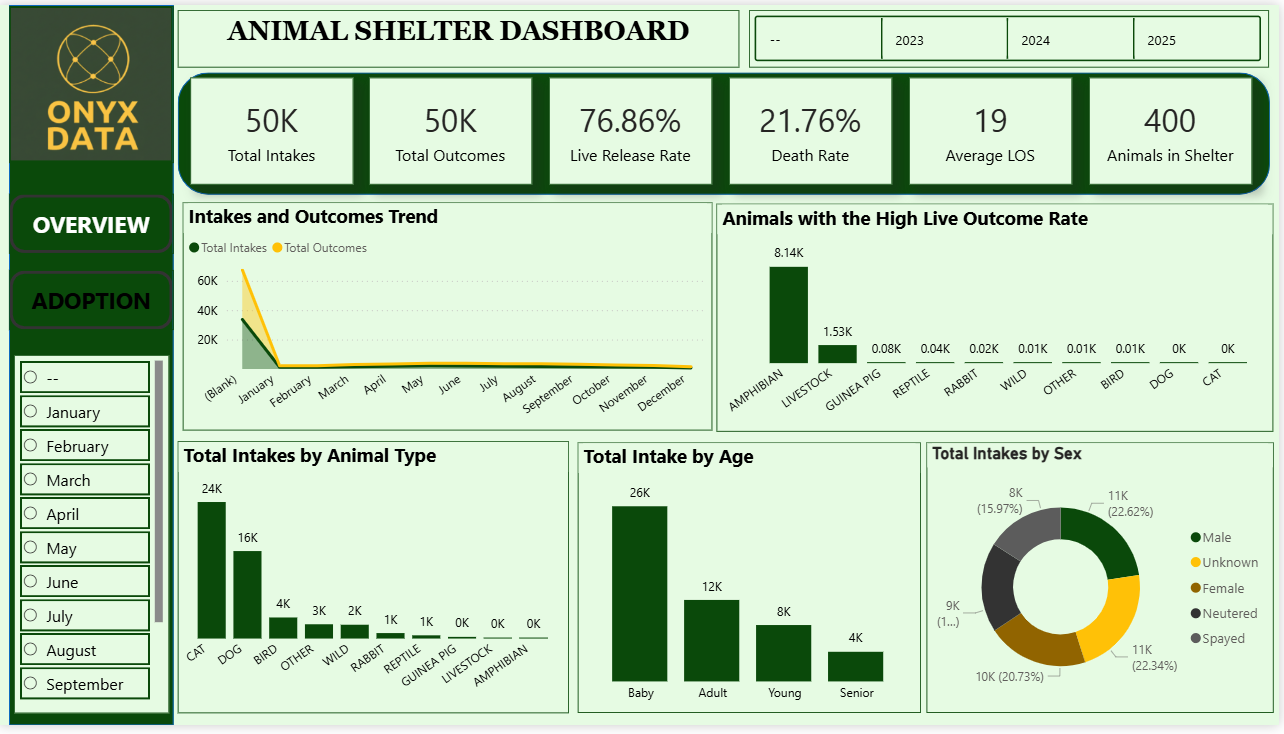

The dashboard page shown, as its layout file describes it:
{"tool":"powerbi","page":{"name":"Overview","canvas":[1280,720],"ordinal":0},"visuals":[{"type":"shape","box":[9.6,0,164.7,720.4],"z":0},{"type":"shape","box":[178.4,67.2,1092.3,122.1],"z":1000},{"type":"card","fields":{"Values":["_Measure.Total Intakes"]},"box":[190.7,72.4,163.3,107],"z":2000},{"type":"card","fields":{"Values":["_Measure.Total Outcomes"]},"box":[370.5,72.4,163.3,107],"z":3000},{"type":"card","fields":{"Values":["_Measure.Live Release Rate"]},"box":[550.3,72.4,163.3,107],"z":4000},{"type":"card","fields":{"Values":["_Measure.Death Rate (%)"]},"box":[730,72.4,163.3,107],"z":5000},{"type":"card","fields":{"Values":["_Measure.AGV LOS"]},"box":[909.8,72.4,163.3,107],"z":6000},{"type":"card","fields":{"Values":["_Measure.Animals Currently in Shelter"]},"box":[1089.5,72.4,163.3,107],"z":7000},{"type":"stackedAreaChart","title":"Intakes and Outcomes Trend","fields":{"Category":["Calendar Table.Month Name"],"Y":["_Measure.Total Intakes","_Measure.Total Outcomes"]},"box":[183.9,197.6,529.7,227.8],"z":8000},{"type":"clusteredColumnChart","fields":{"Category":["Animals.Animal Type"],"Y":["_Measure.Total Intakes"]},"box":[178.4,436.4,391.1,271.7],"z":9000},{"type":"donutChart","fields":{"Category":["Animals.Sex"],"Y":["_Measure.Total Intakes"]},"box":[927.6,437.7,347.2,270.3],"z":10000},{"type":"clusteredColumnChart","title":"Animals with the High Live Outcome Rate","fields":{"Category":["Animals.Animal Type"],"Y":["_Measure.Live Outcomes"]},"box":[717.7,199,557.1,227.8],"z":11000},{"type":"columnChart","title":"Total Intake by Age ","fields":{"Category":["Animals.Age Group"],"Y":["_Measure.Total Intakes"]},"box":[579.1,437.7,343.1,270.3],"z":12000},{"type":"textbox","box":[178.4,5.5,561.2,57.6],"z":13000},{"type":"image","box":[9.6,1.4,164.7,156.4],"z":14000},{"type":"actionButton","box":[9.6,189.4,164.7,60.4],"z":15000},{"type":"actionButton","box":[9.6,264.8,164.7,60.4],"z":16000},{"type":"advancedSlicerVisual","fields":{"Values":["Calendar Table.Year"]},"box":[750.6,5.5,520.1,57.6],"z":16001},{"type":"listSlicer","fields":{"Values":["Calendar Table.Month Name"]},"box":[15.1,349.9,155.1,358.1],"z":16002}]}

Visuals, with their boxes in screenshot pixels (x1, y1, x2, y2), scaled from the page's 1280x720 canvas onto the 1284x734 screenshot:
shape: (x1=10, y1=0, x2=175, y2=733)
shape: (x1=179, y1=69, x2=1275, y2=193)
card - _Measure.Total Intakes: (x1=191, y1=74, x2=355, y2=183)
card - _Measure.Total Outcomes: (x1=372, y1=74, x2=535, y2=183)
card - _Measure.Live Release Rate: (x1=552, y1=74, x2=716, y2=183)
card - _Measure.Death Rate (%): (x1=732, y1=74, x2=896, y2=183)
card - _Measure.AGV LOS: (x1=913, y1=74, x2=1076, y2=183)
card - _Measure.Animals Currently in Shelter: (x1=1093, y1=74, x2=1257, y2=183)
"Intakes and Outcomes Trend" stackedAreaChart: (x1=184, y1=201, x2=716, y2=434)
clusteredColumnChart - Animals.Animal Type x _Measure.Total Intakes: (x1=179, y1=445, x2=571, y2=722)
donutChart - Animals.Sex x _Measure.Total Intakes: (x1=930, y1=446, x2=1279, y2=722)
"Animals with the High Live Outcome Rate" clusteredColumnChart: (x1=720, y1=203, x2=1279, y2=435)
"Total Intake by Age " columnChart: (x1=581, y1=446, x2=925, y2=722)
textbox: (x1=179, y1=6, x2=742, y2=64)
image: (x1=10, y1=1, x2=175, y2=161)
actionButton: (x1=10, y1=193, x2=175, y2=255)
actionButton: (x1=10, y1=270, x2=175, y2=332)
advancedSlicerVisual - Calendar Table.Year: (x1=753, y1=6, x2=1275, y2=64)
listSlicer - Calendar Table.Month Name: (x1=15, y1=357, x2=171, y2=722)
